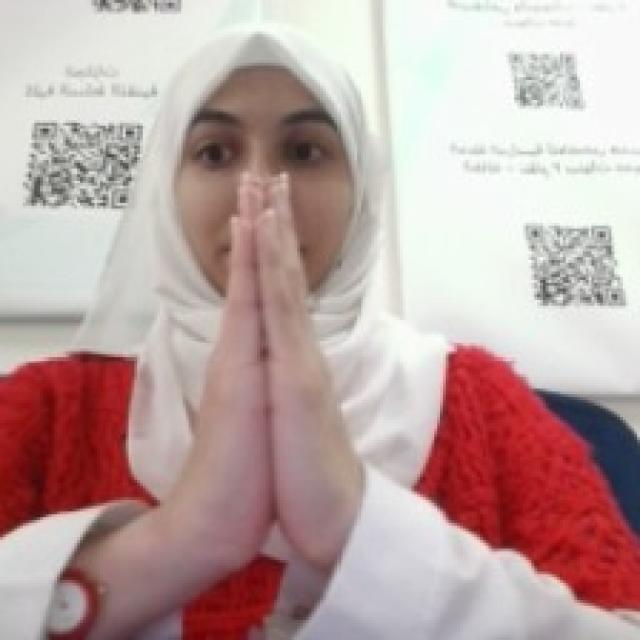sorry: (186, 177, 354, 580)
